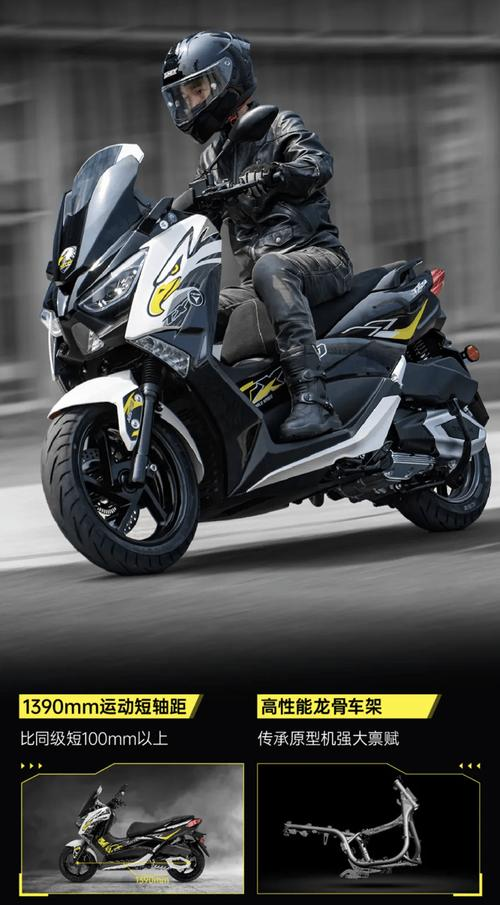摩托车: (42, 147, 494, 553), (49, 780, 217, 881)
